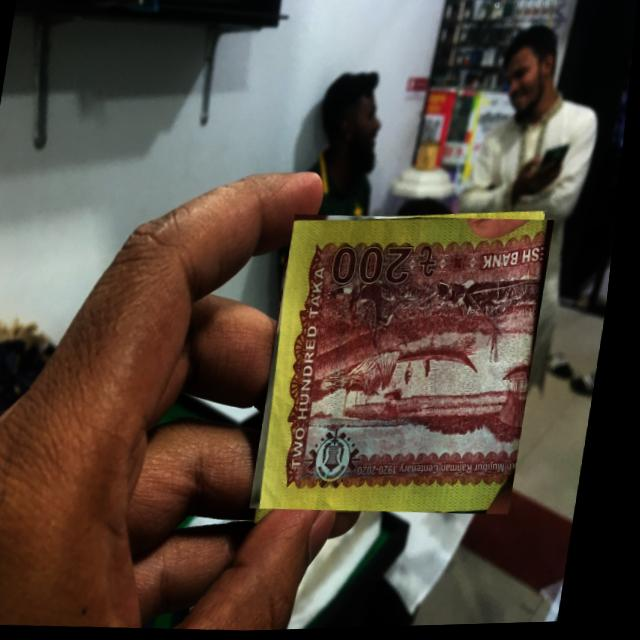Taka: (259, 210, 560, 524)
